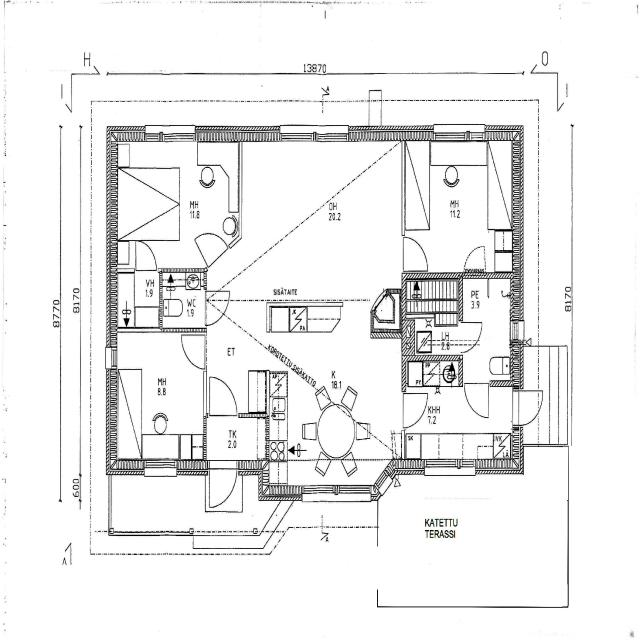door: (194, 218, 229, 268), (209, 460, 237, 513), (512, 391, 548, 425), (210, 375, 237, 417), (464, 380, 488, 421), (179, 334, 206, 370), (401, 393, 429, 427), (203, 292, 230, 326), (402, 237, 429, 271), (458, 322, 484, 352), (136, 239, 156, 273)
